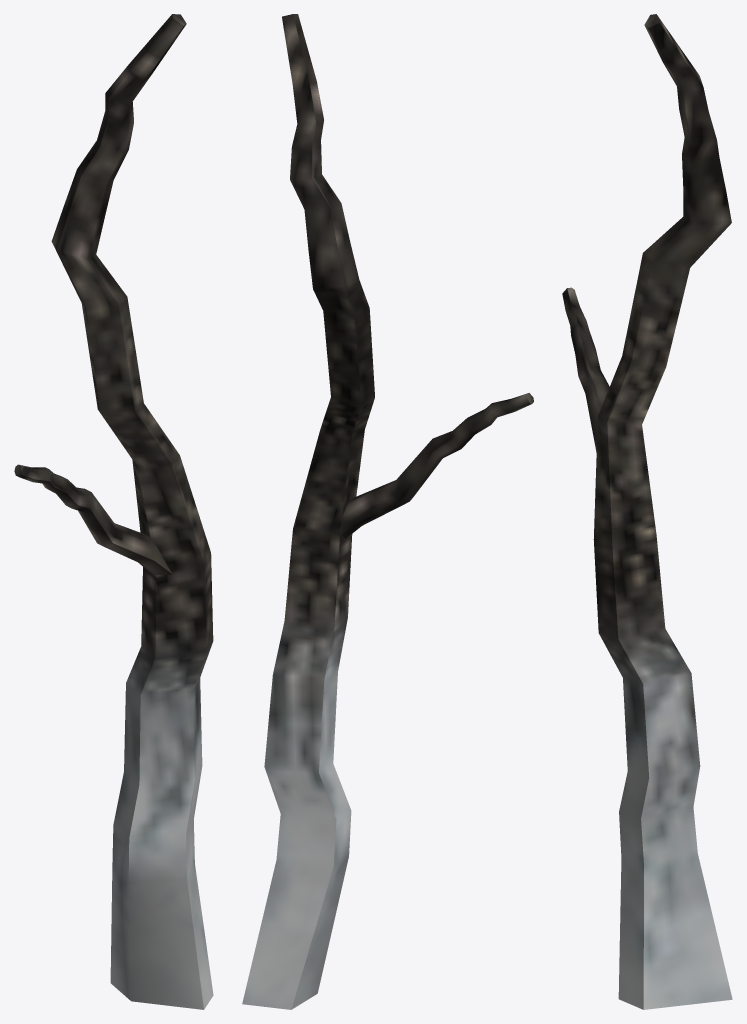
The model's file is snow_v_a01b.fbx.
3 renders of one model, left to right at view 1: azimuth 30°, elevation 25°; view 2: azimuth 150°, elevation 25°; view 3: azimuth 270°, elevation 25°, orthographic.
Visible parts, largest first — view 1: v_a01b; view 2: v_a01b; view 3: v_a01b.
Part boxes in pixels (left/top/right/bottom): v_a01b: left=14, top=14, right=213, bottom=1009; v_a01b: left=242, top=14, right=533, bottom=1009; v_a01b: left=562, top=14, right=732, bottom=1009.
Size of the model in its own units: 25.62 by 103 by 16.2.
